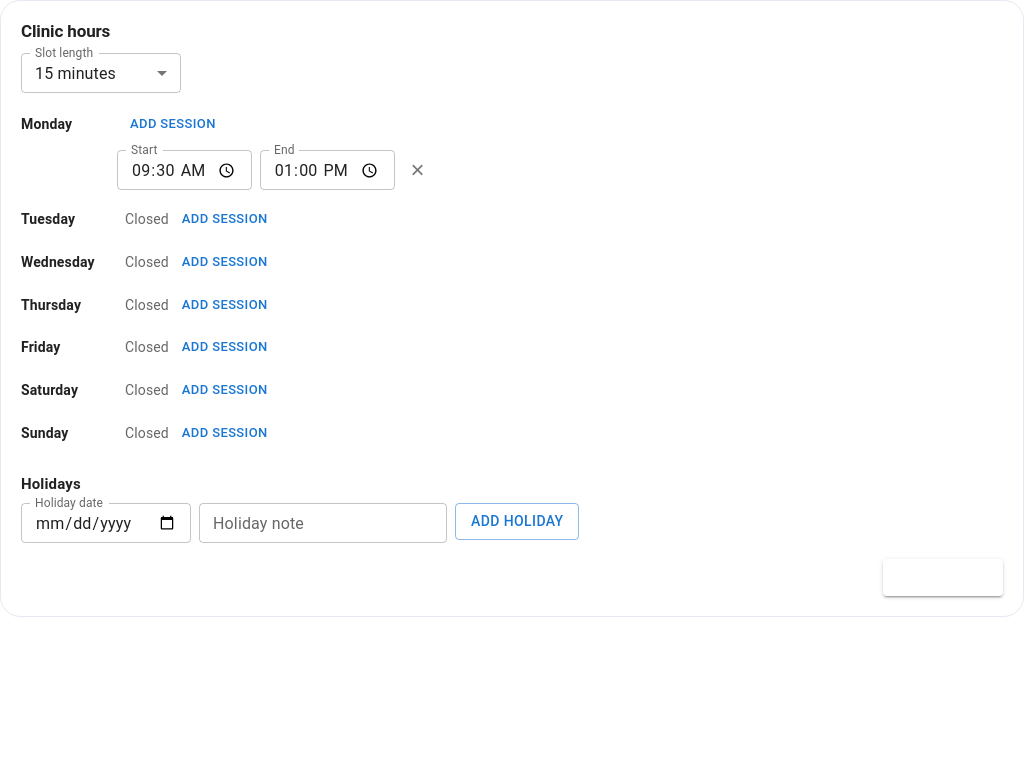
it: ClinicHoursSection › rejects End before Start without saving
Replace the text in the time field named "Monday end 1" with "08:00" at (327, 170), box [260,150,395,190]
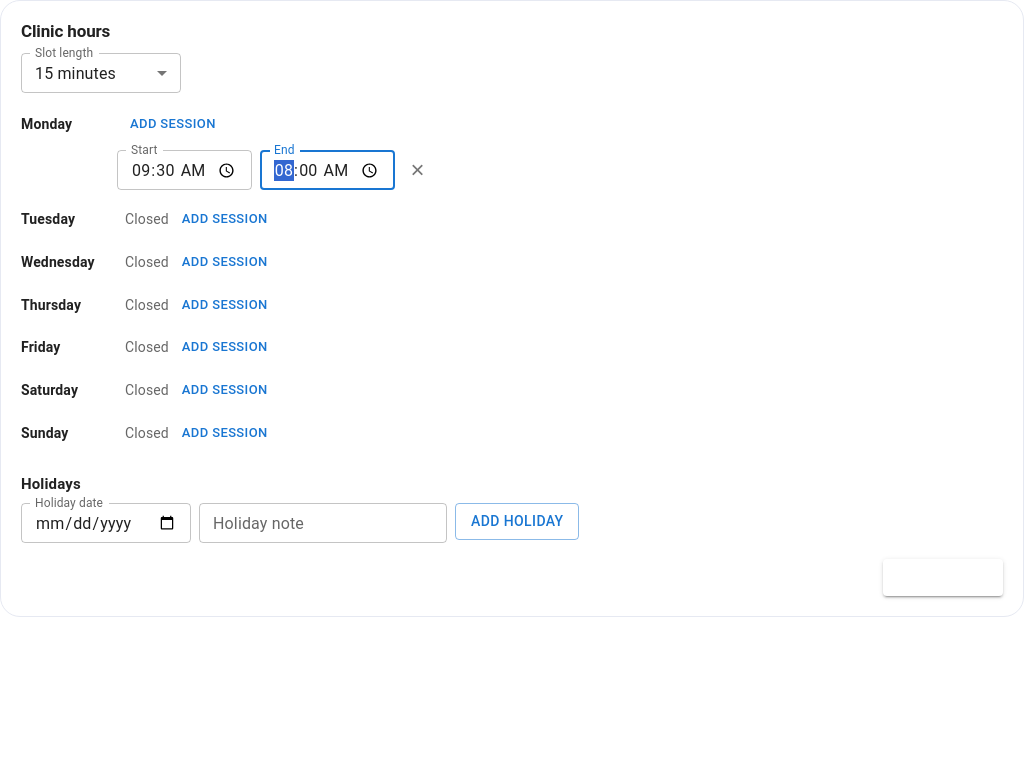
Click the button "Save hours" at (943, 577), box [883,559,1003,596]
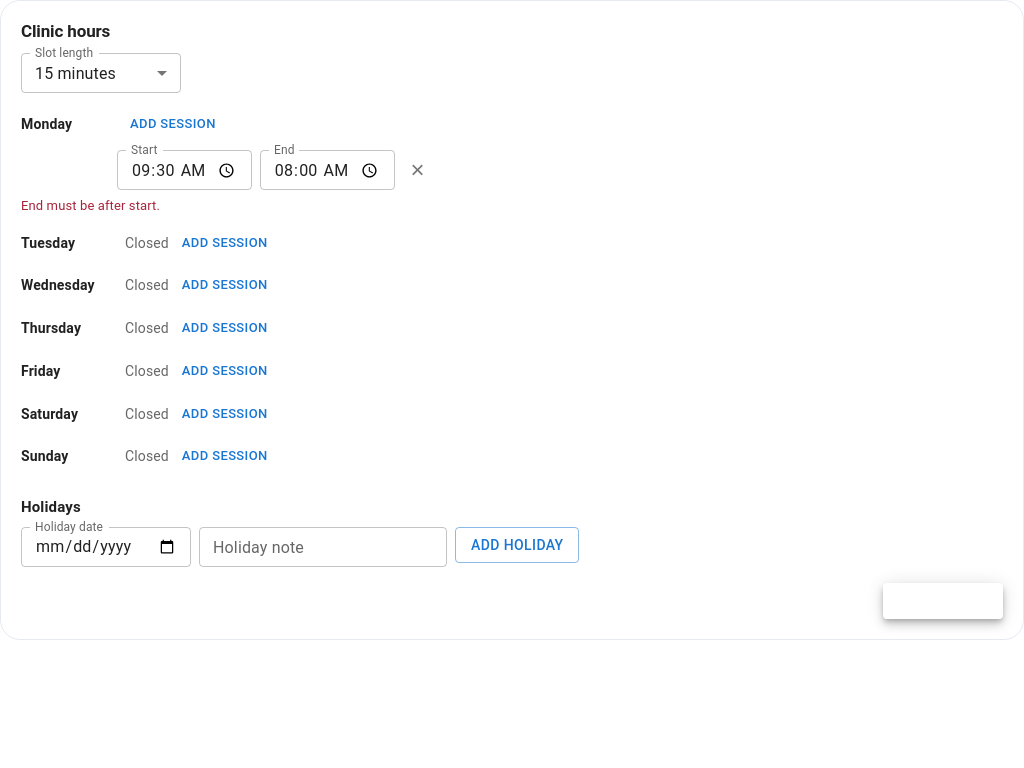
expect the text "End must be after start." is shown: met, box [21,198,160,213]
